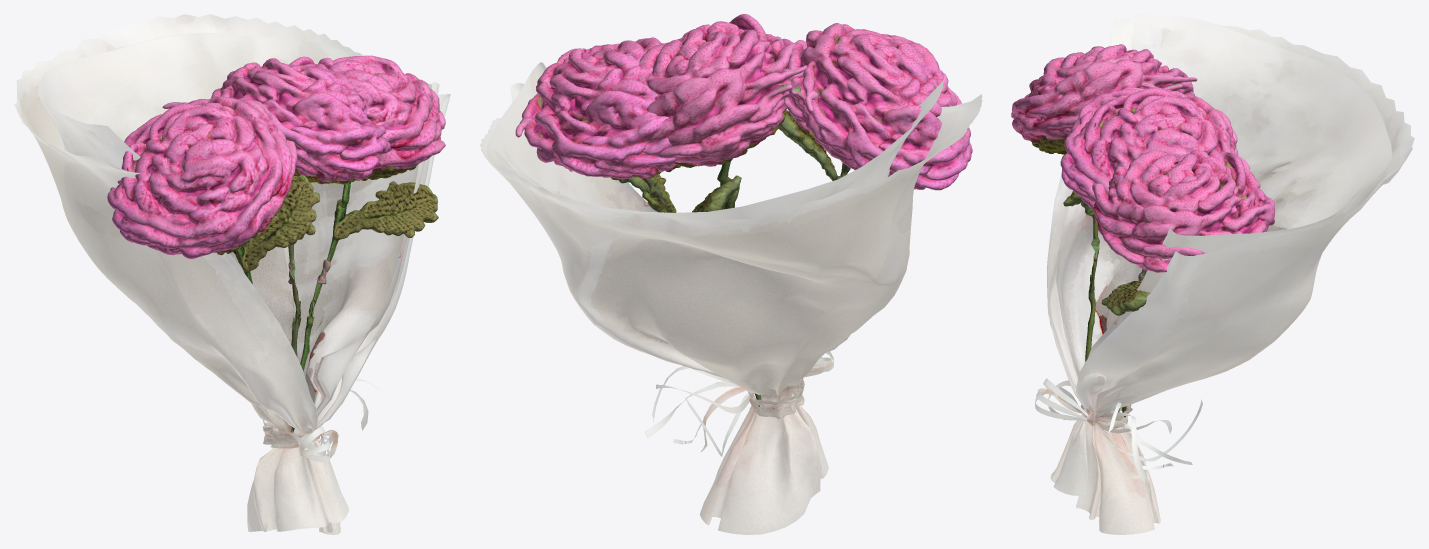
The model's file is Peony Bouquet.glb.
The picture shows the model from 3 angles, left to right: view 1: azimuth 30°, elevation 25°; view 2: azimuth 150°, elevation 25°; view 3: azimuth 270°, elevation 25°; orthographic projection. The views are drawn at different scales.
Visible parts, largest first — view 1: outer, inner, Rose_Petals, Rose_Petals.001, Rose_Petals.002, Rose_Stem.002, Rose_Stem, ribbon, parcel_knot, Rose_Stem.001; view 2: outer, Rose_Petals, Rose_Petals.001, Rose_Petals.002, inner, ribbon, Rose_Stem, Rose_Stem.001, Rose_Stem.002, parcel_knot; view 3: outer, inner, Rose_Petals.002, Rose_Petals.001, Rose_Petals, ribbon, Rose_Stem, Rose_Stem.002.
Part boxes in pixels (<box>): outer: <box>14,14,450,534</box>; inner: <box>38,33,439,432</box>; Rose_Petals: <box>107,96,297,258</box>; Rose_Petals.001: <box>211,58,390,257</box>; Rose_Petals.002: <box>289,55,445,255</box>; Rose_Stem.002: <box>300,181,438,371</box>; Rose_Stem: <box>233,175,319,432</box>; ribbon: <box>262,379,380,462</box>; parcel_knot: <box>262,422,311,448</box>; Rose_Stem.001: <box>288,244,301,357</box>; outer: <box>479,83,982,534</box>; Rose_Petals: <box>784,23,972,190</box>; Rose_Petals.001: <box>638,14,807,167</box>; Rose_Petals.002: <box>515,37,680,179</box>; inner: <box>491,62,943,221</box>; ribbon: <box>644,351,833,456</box>; Rose_Stem: <box>778,109,850,180</box>; Rose_Stem.001: <box>692,161,741,212</box>; Rose_Stem.002: <box>615,174,761,406</box>; parcel_knot: <box>747,377,804,419</box>; outer: <box>1047,18,1414,534</box>; inner: <box>1056,14,1392,379</box>; Rose_Petals.002: <box>1092,148,1275,282</box>; Rose_Petals.001: <box>1060,82,1238,271</box>; Rose_Petals: <box>1011,44,1197,154</box>; ribbon: <box>1035,378,1202,483</box>; Rose_Stem: <box>1063,191,1099,361</box>; Rose_Stem.002: <box>1101,279,1150,417</box>.
Bounding box in the file's own units: 1.8 × 1.93 × 1.64.
6 materials, 6 textured.
